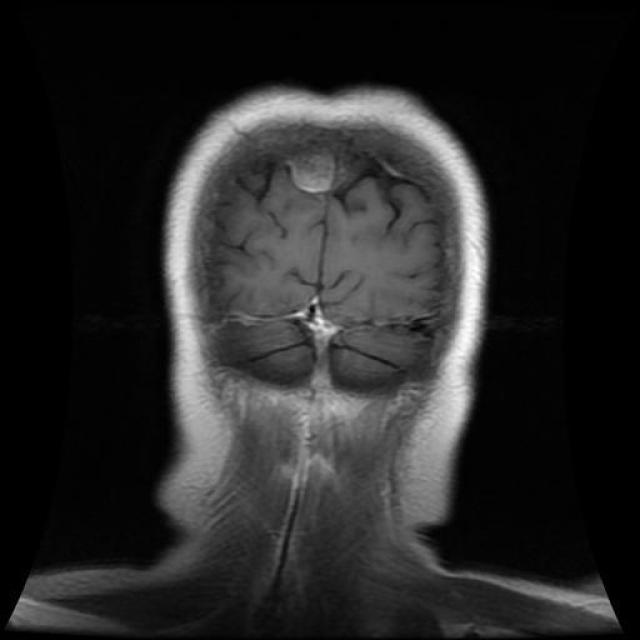Tumor: (286, 154, 336, 193)
